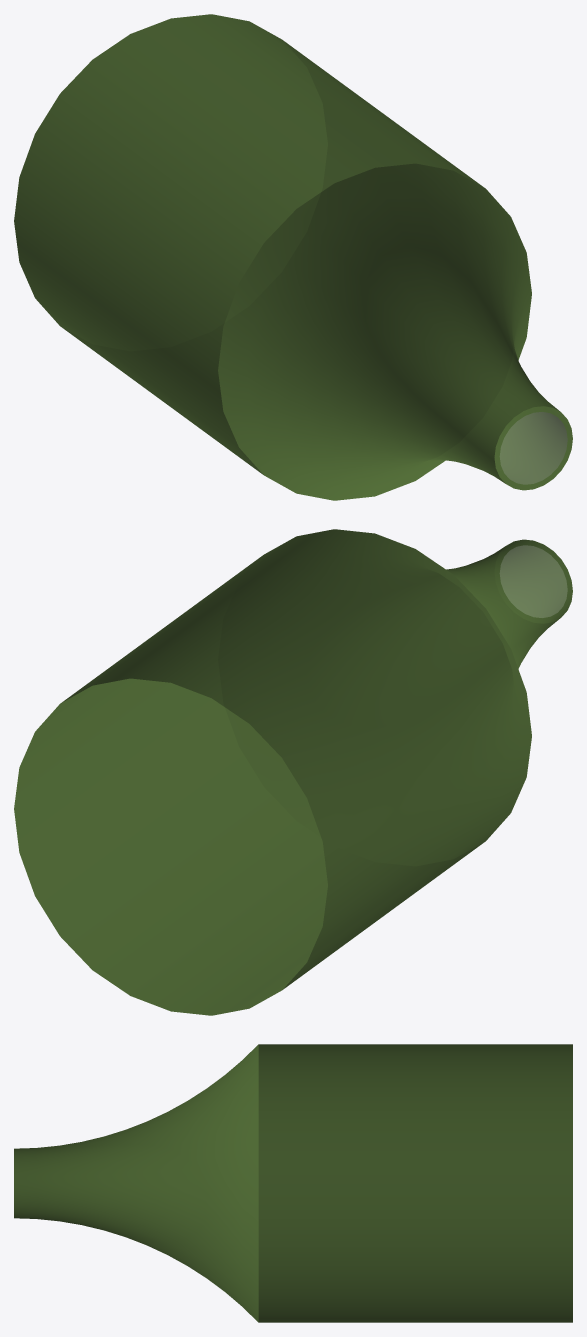
File: model_align.obj
3 views of the same model, one above another, from view 1: azimuth 30°, elevation 25°; view 2: azimuth 150°, elevation 25°; view 3: azimuth 270°, elevation 25° (orthographic). The views are drawn at different scales.
Visible parts, largest first — view 1: mesh1_mesh1-geometry; view 2: mesh1_mesh1-geometry; view 3: mesh1_mesh1-geometry.
Boxes of the visible parts, x1,y1,x2,y2 form: mesh1_mesh1-geometry: [14, 14, 572, 500]; mesh1_mesh1-geometry: [14, 529, 572, 1015]; mesh1_mesh1-geometry: [14, 1044, 572, 1322].
Bounding box in the file's own units: 0.0947 × 0.0947 × 0.1895.
